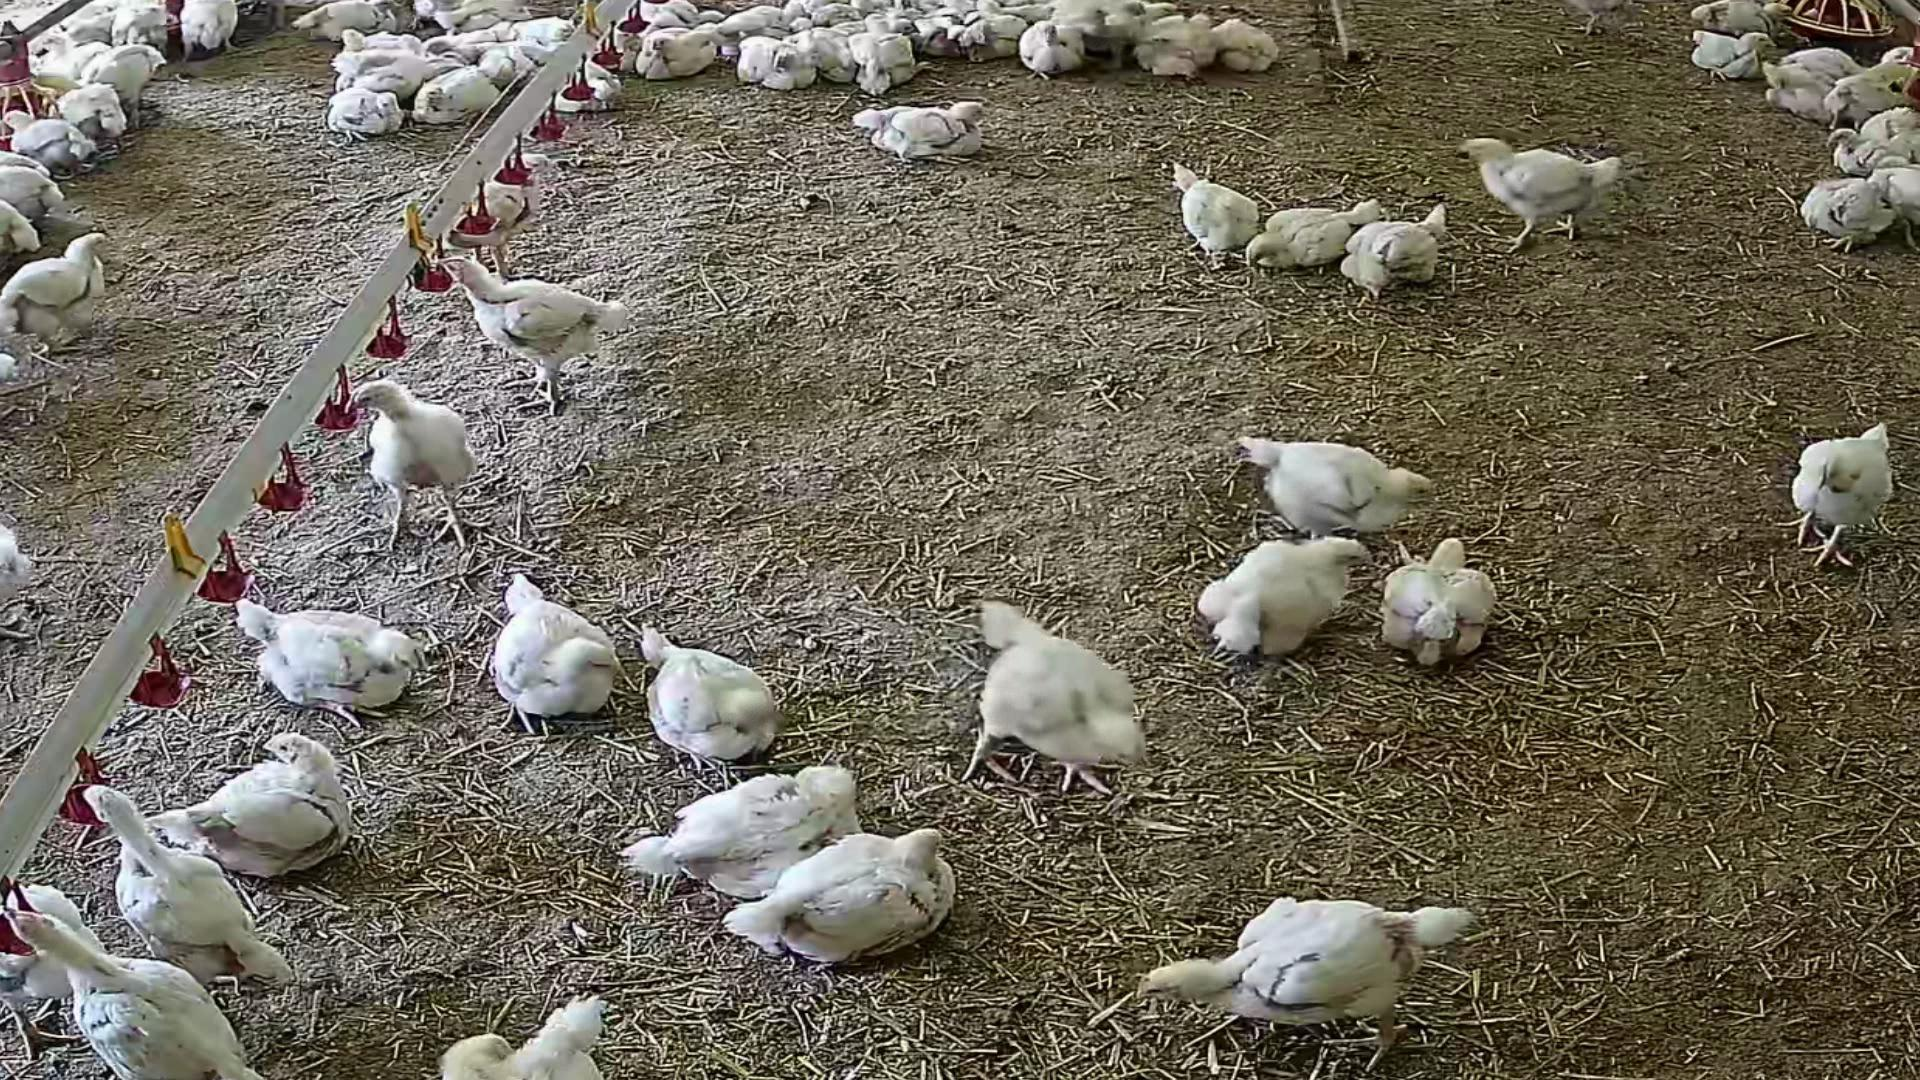poussin: (1122, 895, 1476, 1059), (0, 909, 276, 1077), (82, 782, 266, 981), (971, 596, 1145, 796), (731, 829, 967, 969), (156, 728, 378, 876), (431, 253, 626, 411), (640, 766, 870, 882), (353, 375, 483, 571), (228, 589, 426, 715), (467, 574, 612, 731), (1234, 430, 1440, 539), (1195, 541, 1374, 655), (645, 621, 777, 770), (415, 989, 629, 1080), (0, 852, 98, 1043), (1451, 138, 1623, 245), (1788, 425, 1902, 575), (1382, 530, 1514, 657), (439, 146, 566, 273), (15, 229, 113, 356), (1244, 190, 1390, 269), (1160, 160, 1257, 269), (1352, 199, 1447, 293), (860, 99, 1004, 156), (0, 489, 46, 651), (0, 113, 133, 167), (1808, 170, 1886, 256), (54, 84, 150, 142), (547, 53, 634, 115), (0, 152, 71, 225), (1833, 111, 1920, 166), (1754, 61, 1838, 117), (855, 17, 914, 96), (182, 0, 253, 66), (88, 51, 182, 100), (1828, 78, 1912, 131), (426, 71, 501, 129), (316, 91, 406, 138), (1134, 29, 1221, 78), (1874, 156, 1917, 249), (733, 44, 825, 87), (1691, 0, 1795, 38), (1681, 29, 1764, 76), (1218, 17, 1284, 76), (123, 4, 198, 55), (952, 16, 1025, 69), (0, 145, 84, 189), (345, 58, 443, 95), (297, 8, 396, 44), (793, 26, 855, 83), (646, 33, 720, 80), (1776, 49, 1869, 80), (433, 0, 541, 26), (40, 32, 96, 78), (1030, 33, 1080, 84), (919, 8, 964, 59), (516, 16, 596, 44), (66, 0, 113, 46), (1085, 0, 1162, 26), (336, 34, 438, 54), (1569, 0, 1640, 25), (417, 33, 501, 53), (484, 44, 520, 80), (1056, 9, 1121, 29), (976, 3, 1055, 18), (727, 9, 779, 33), (0, 339, 18, 397), (1888, 34, 1920, 65), (1135, 3, 1200, 17), (650, 3, 702, 15), (688, 11, 732, 22), (887, 21, 924, 33)
